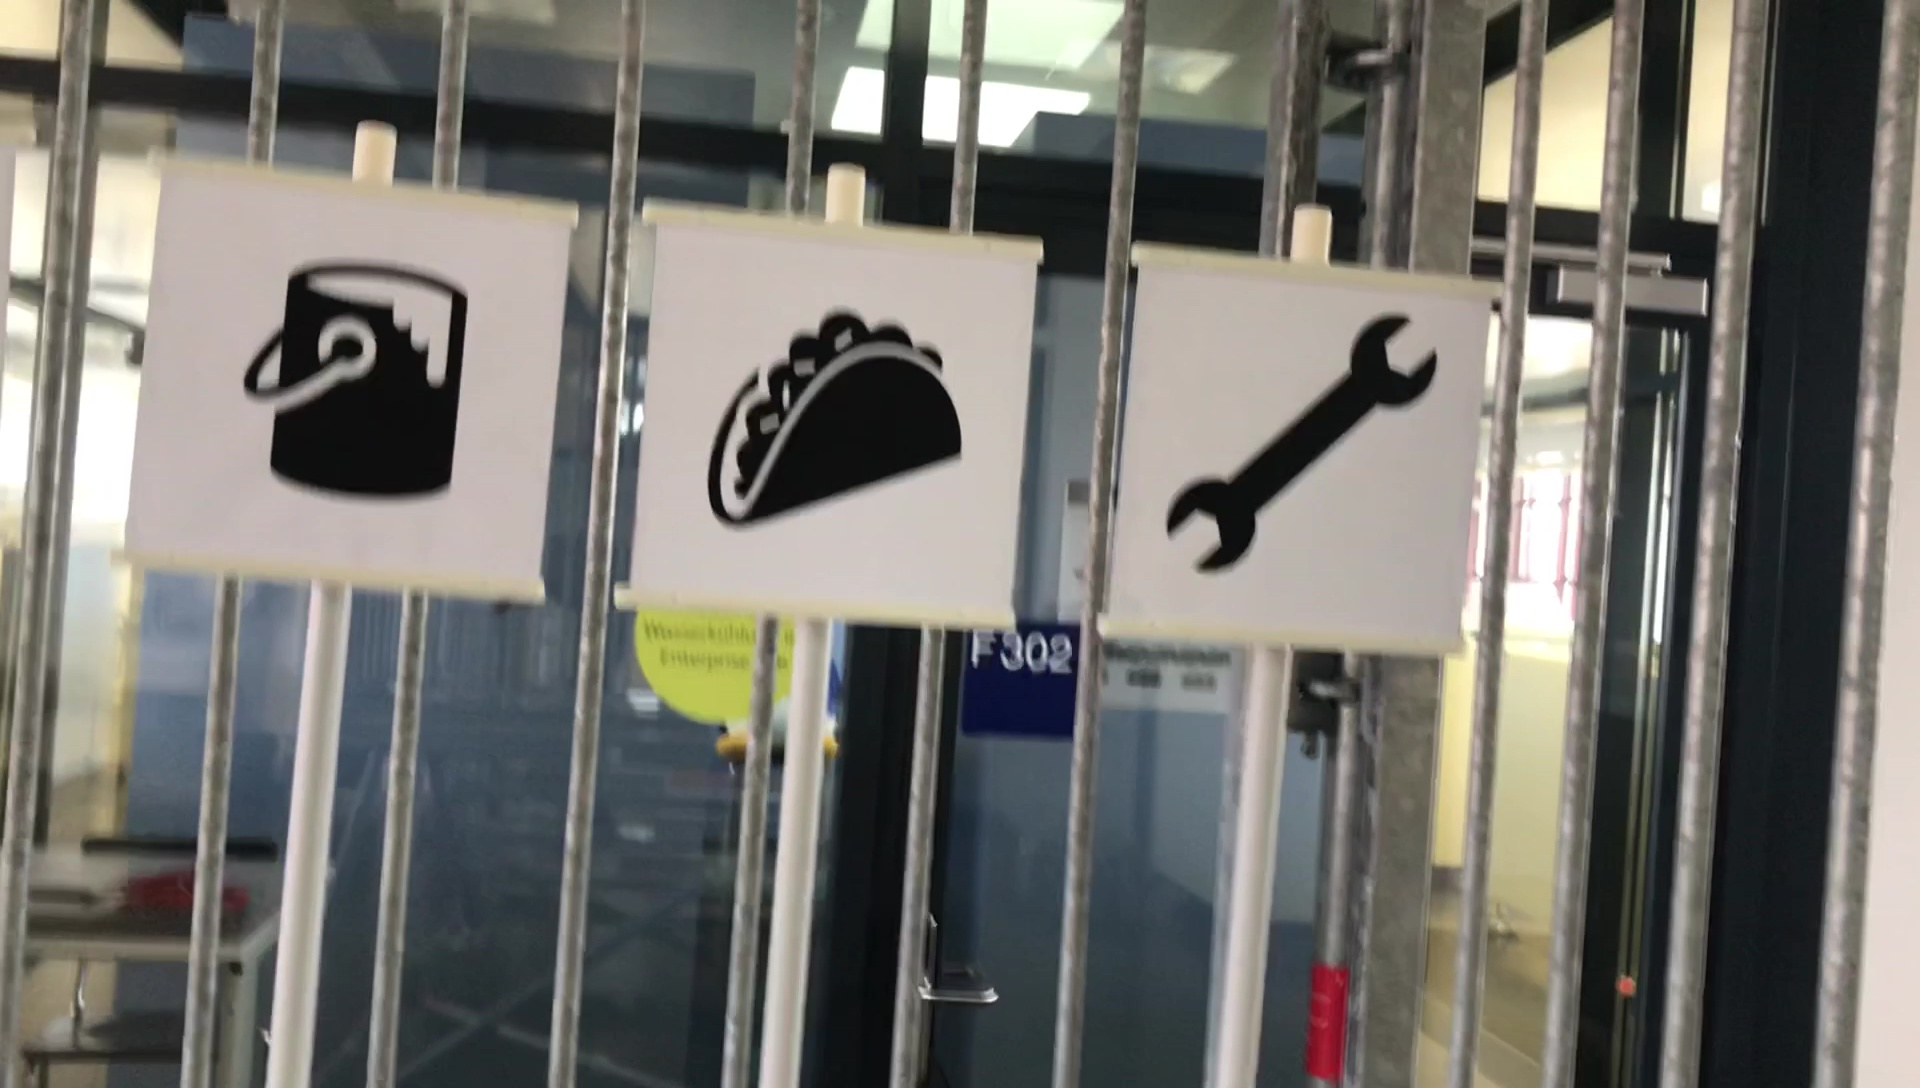bucket: (232, 258, 489, 508)
taco: (702, 302, 964, 528)
wrench: (1163, 309, 1439, 572)
